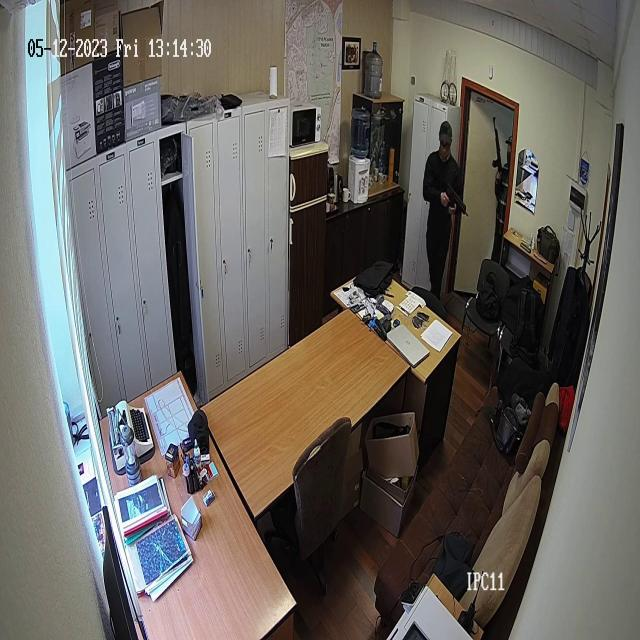gun: (424, 120, 470, 291), (488, 114, 511, 258), (441, 182, 469, 217), (490, 116, 502, 178)
